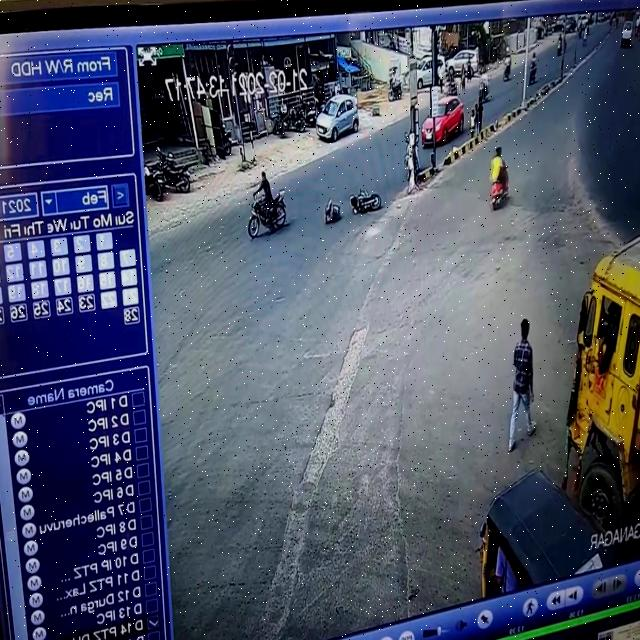accident: (320, 177, 388, 239)
